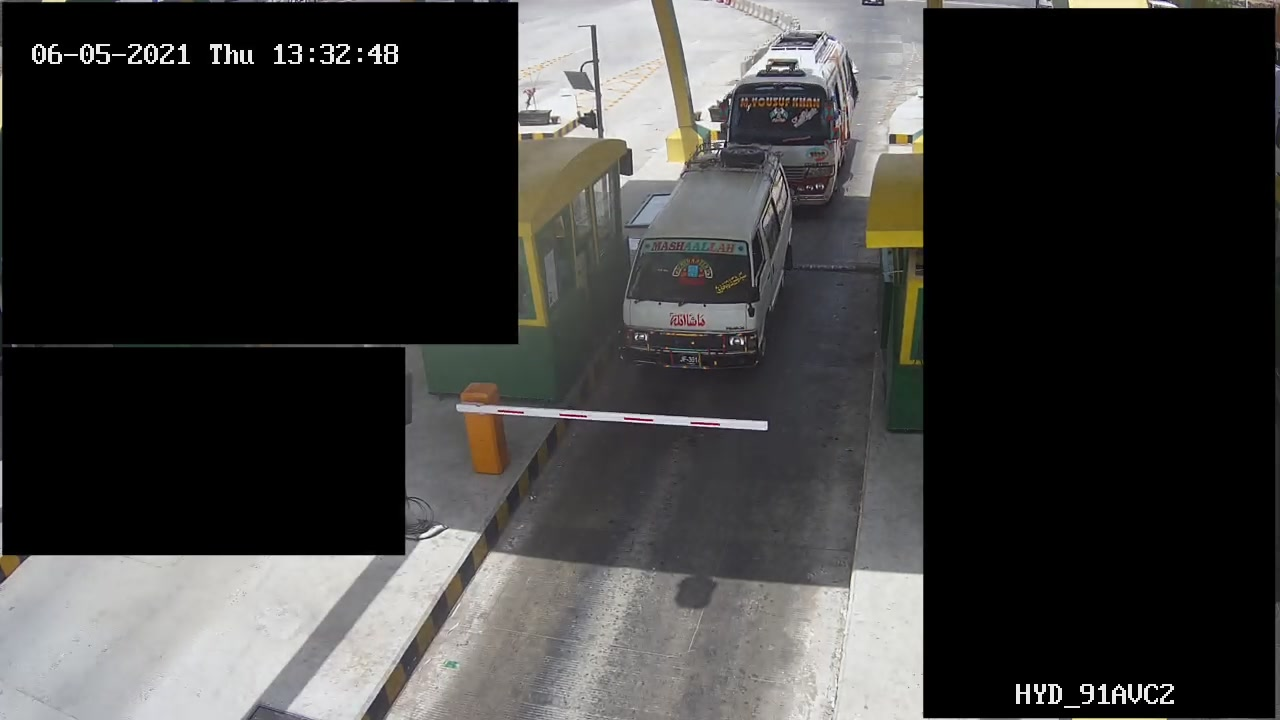F2: (610, 140, 798, 379)
